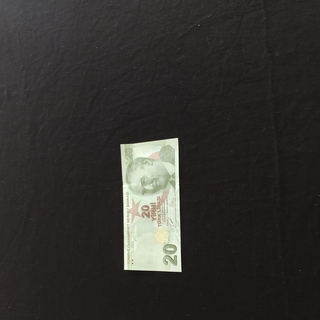20TLFront: (120, 137, 182, 272)
